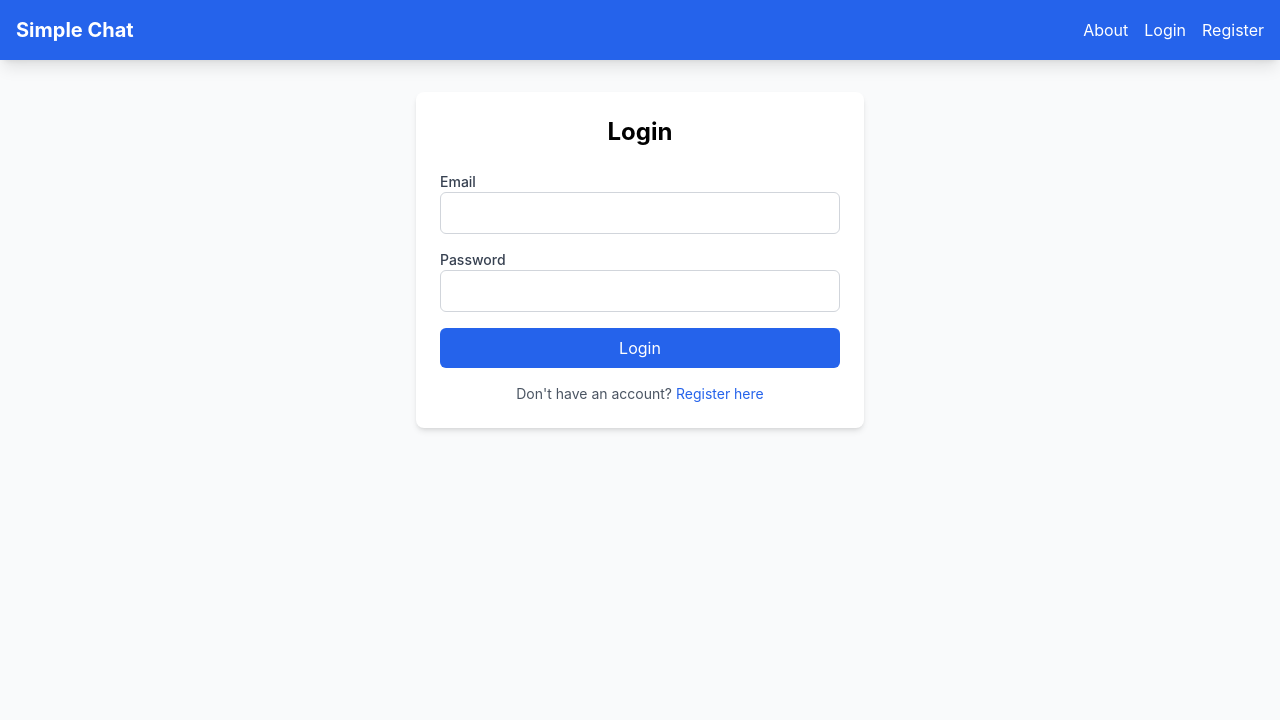
Test: Authentication Flow › Login › should show error for empty fields
Click the submit button at coordinates (640, 348), box [440,328,840,368]
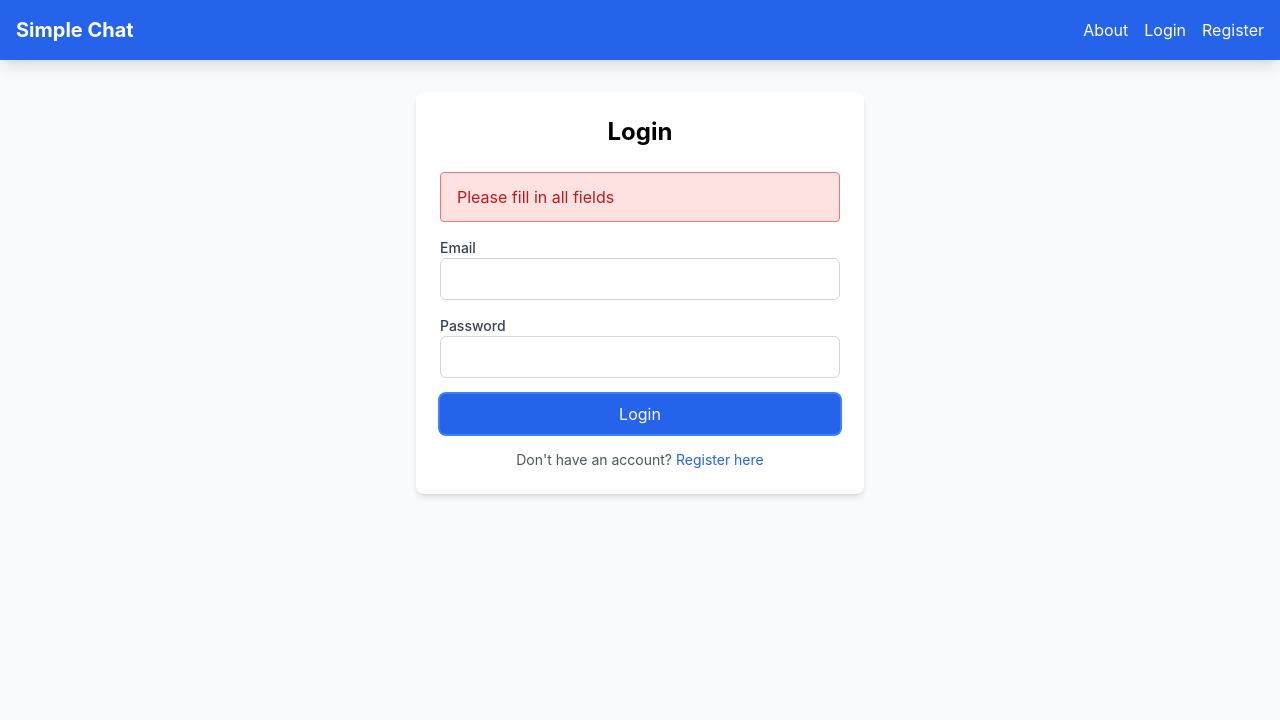
Result: the text "Please fill in all fields" is shown at [440,172,840,222]
